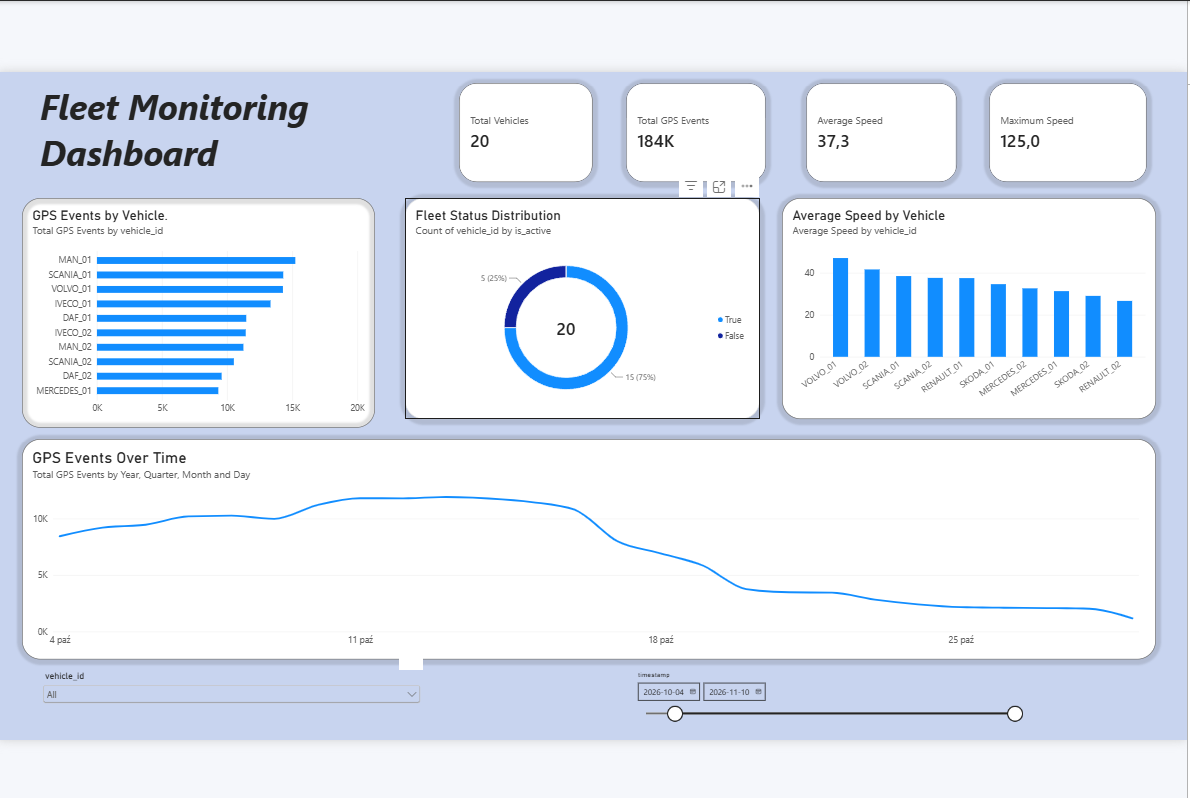

What the dashboard file says about the page in this screenshot:
{"tool":"powerbi","page":{"name":"Fleet Overview","canvas":[1920,1080],"ordinal":0},"visuals":[{"type":"cardVisual","fields":{"Data":["fleet vehicles.Total Vehicles"]},"box":[744.1,17.5,215.9,160.5],"z":0},{"type":"cardVisual","fields":{"Data":["fleet gps_events.Total GPS Events"]},"box":[1014,17.5,226.1,160.5],"z":1000},{"type":"cardVisual","fields":{"Data":["fleet gps_events.Average Speed"]},"box":[1304.3,17.5,243.6,160.5],"z":2000},{"type":"cardVisual","fields":{"Data":["fleet gps_events.Maximum Speed"]},"box":[1600.5,17.5,255.3,160.5],"z":3000},{"type":"clusteredBarChart","title":"GPS Events by Vehicle.","fields":{"Category":["fleet vehicles.vehicle_id"],"Y":["fleet gps_events.Total GPS Events"]},"box":[39.4,202.8,570.5,370.6],"z":4000},{"type":"clusteredColumnChart","title":"Average Speed by Vehicle","fields":{"Category":["fleet vehicles.vehicle_id"],"Y":["fleet gps_events.Average Speed"]},"box":[1266.4,202.8,604,357.4],"z":5000},{"type":"lineChart","title":"GPS Events Over Time","fields":{"Category":["fleet gps_events.timestamp.Variation.Date Hierarchy.Year","fleet gps_events.timestamp.Variation.Date Hierarchy.Quarter","fleet gps_events.timestamp.Variation.Date Hierarchy.Month","fleet gps_events.timestamp.Variation.Date Hierarchy.Day"],"Y":["fleet gps_events.Total GPS Events"]},"box":[39.4,592.3,1831,356],"z":6000},{"type":"slicer","fields":{"Values":["fleet vehicles.vehicle_id"]},"box":[68.6,967.3,618.6,74.4],"z":7000},{"type":"slicer","fields":{"Values":["fleet gps_events.timestamp"]},"box":[1025.7,967.3,633.2,102.1],"z":8000},{"type":"donutChart","title":"Fleet Status Distribution","fields":{"Category":["fleet vehicles.is_active"],"Y":["CountNonNull(fleet vehicles.vehicle_id)"]},"box":[656.5,202.8,573.4,357.4],"z":9000},{"type":"textbox","box":[68.6,17.5,539.8,160.5],"z":9001}]}

Visuals, with their boxes on the page's 1920x1080 design canvas (x1, y1, x2, y2). These are canvas units, not pixel positions in the 1190x798 screenshot, which may show the page scaled, cropped or inside an application window:
cardVisual - fleet vehicles.Total Vehicles: bbox(744, 18, 960, 178)
cardVisual - fleet gps_events.Total GPS Events: bbox(1014, 18, 1240, 178)
cardVisual - fleet gps_events.Average Speed: bbox(1304, 18, 1548, 178)
cardVisual - fleet gps_events.Maximum Speed: bbox(1600, 18, 1856, 178)
"GPS Events by Vehicle." clusteredBarChart: bbox(39, 203, 610, 573)
"Average Speed by Vehicle" clusteredColumnChart: bbox(1266, 203, 1870, 560)
"GPS Events Over Time" lineChart: bbox(39, 592, 1870, 948)
slicer - fleet vehicles.vehicle_id: bbox(69, 967, 687, 1042)
slicer - fleet gps_events.timestamp: bbox(1026, 967, 1659, 1069)
"Fleet Status Distribution" donutChart: bbox(656, 203, 1230, 560)
textbox: bbox(69, 18, 608, 178)
